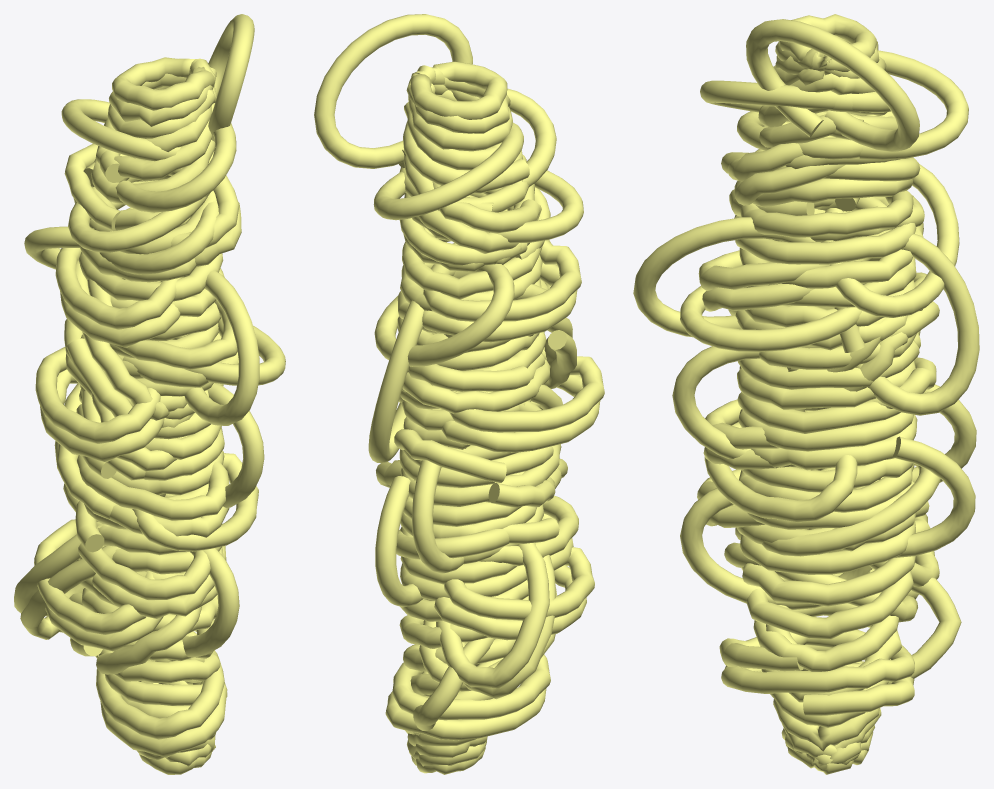
File: Cooked_Pasta.fbx
The picture shows the model from 3 angles, left to right: view 1: azimuth 30°, elevation 25°; view 2: azimuth 150°, elevation 25°; view 3: azimuth 270°, elevation 25°; orthographic projection. The views are drawn at different scales.
Visible parts, largest first — view 1: Spiral.029; view 2: Spiral.029; view 3: Spiral.029.
Part boxes in pixels (x1,y1,x2,y2): Spiral.029: (14, 14, 285, 774); Spiral.029: (314, 14, 604, 774); Spiral.029: (633, 14, 979, 774).
Size of the model in its own units: 24.89 by 75.87 by 31.1.
